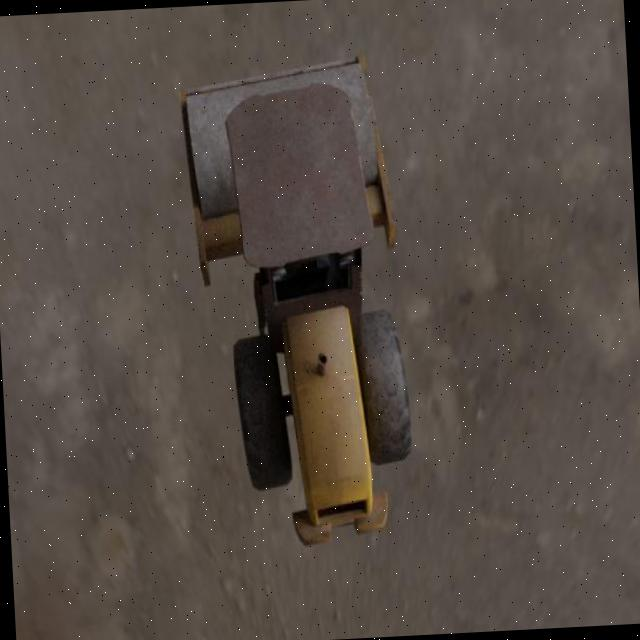Roller: (176, 51, 416, 552)
